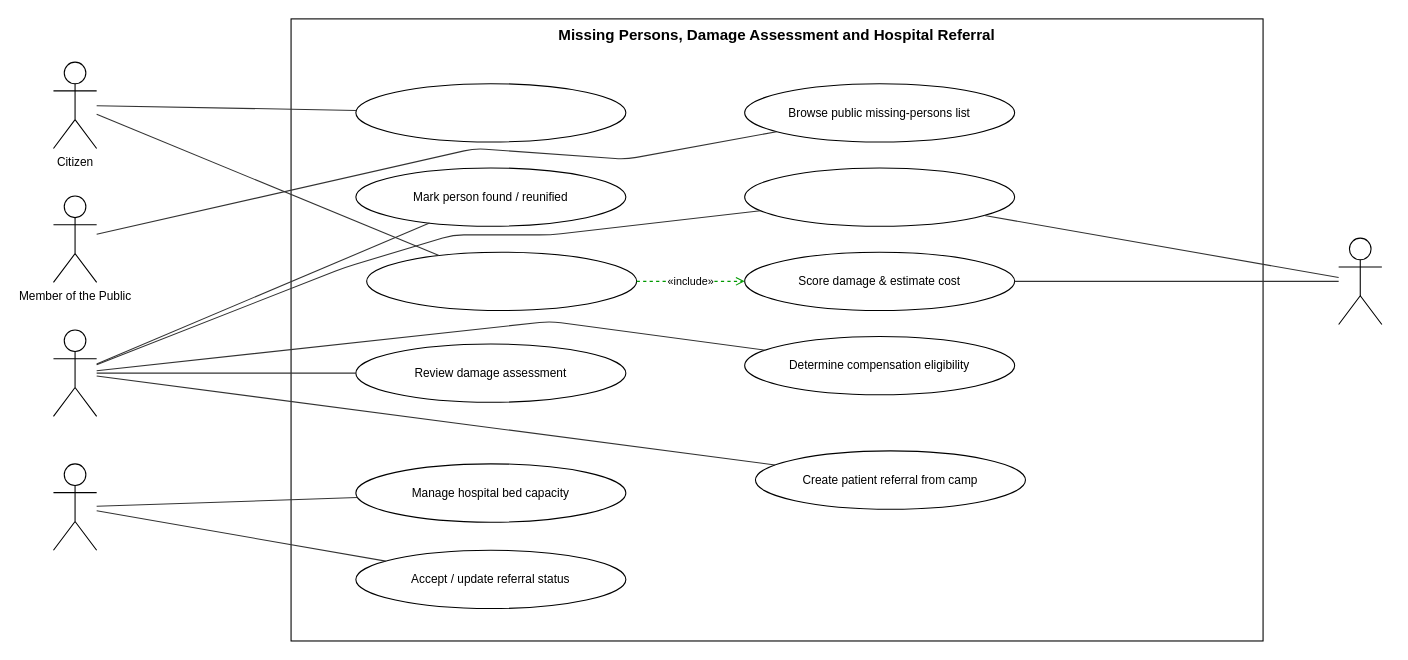
Some shapes in this 1408 by 660 pixel diagram are drawn without their labels. The centre of each missing label's shape, as x and y in pixels:
"DMC Officer" goes at point (74, 372).
"Hospital Staff" goes at point (74, 506).
"Match face against missing persons" goes at point (879, 196).
"ML Service" goes at point (1360, 281).
"Report missing person" goes at point (490, 112).
"Submit damage assessment" goes at point (501, 280).
